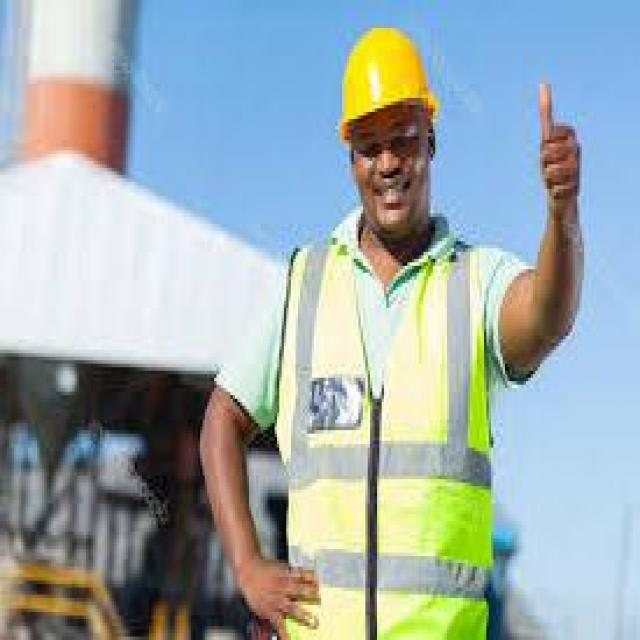Reflective-Jacket: (268, 220, 505, 636)
Safety-Helmet: (330, 17, 447, 140)
